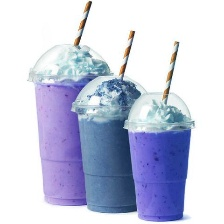drinking_straw: (155, 34, 187, 107), (115, 22, 143, 82), (70, 0, 96, 48)
glass: (20, 38, 124, 210), (117, 88, 213, 223), (69, 71, 150, 218)
